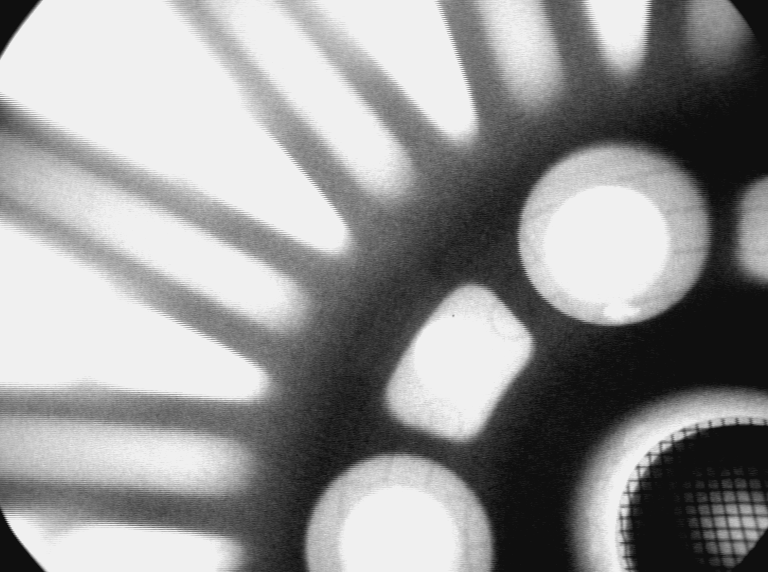defect: (600, 298, 646, 325)
